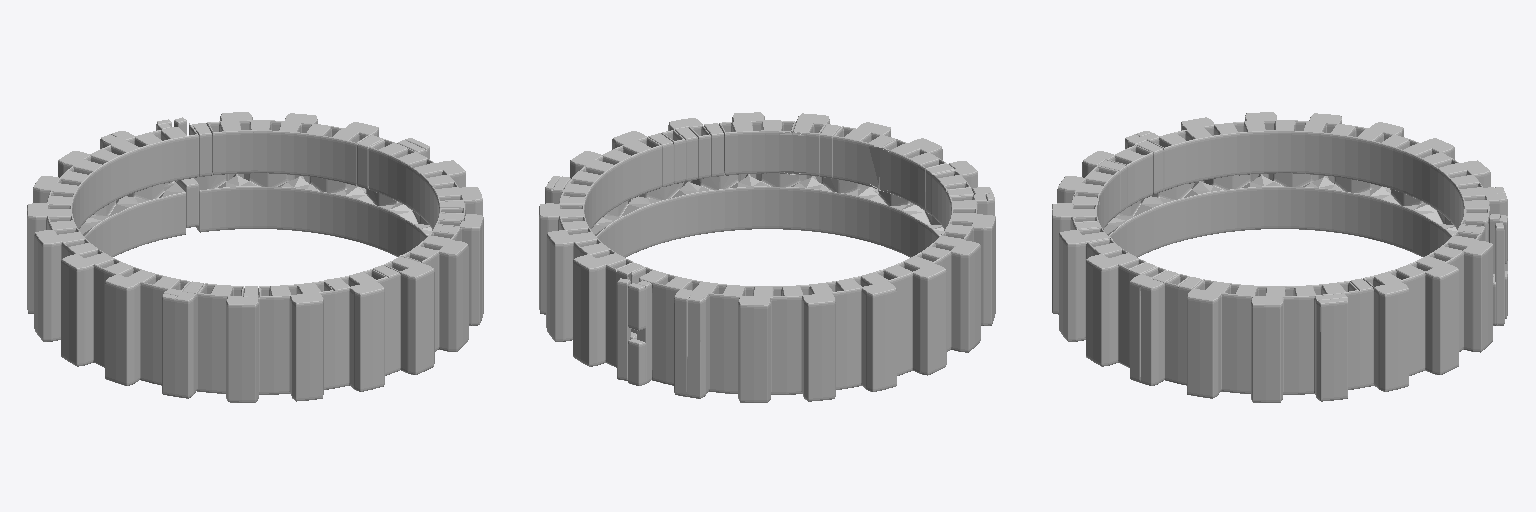
Rendered from engrenagem.obj.
3 views of the same model, side by side, from view 1: azimuth 30°, elevation 25°; view 2: azimuth 150°, elevation 25°; view 3: azimuth 270°, elevation 25° (orthographic).
Visible parts, largest first — view 1: Gear_21_Gear.009; view 2: Gear_21_Gear.009; view 3: Gear_21_Gear.009.
Boxes of the visible parts, x1,y1,x2,y2 form: Gear_21_Gear.009: [27, 112, 483, 402]; Gear_21_Gear.009: [539, 112, 995, 402]; Gear_21_Gear.009: [1052, 112, 1507, 402].
Size of the model in its own units: 5.53 by 1.36 by 5.52.